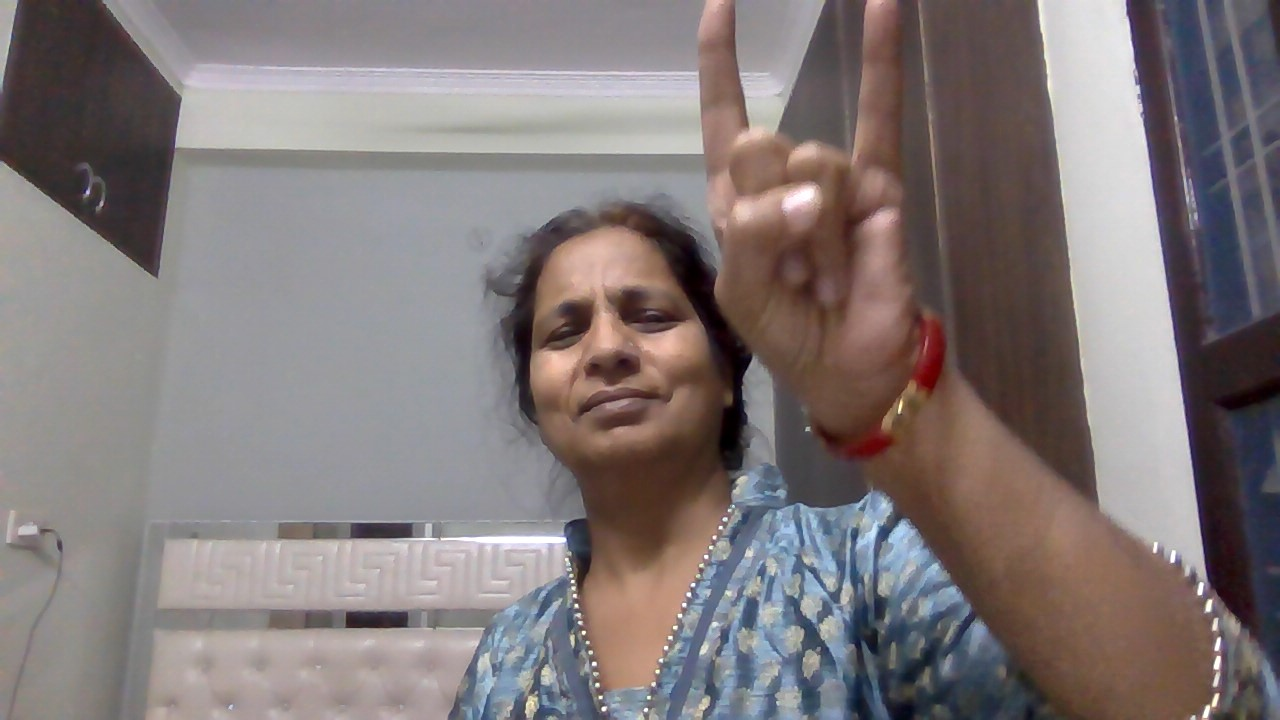Select All: (684, 3, 945, 388)
